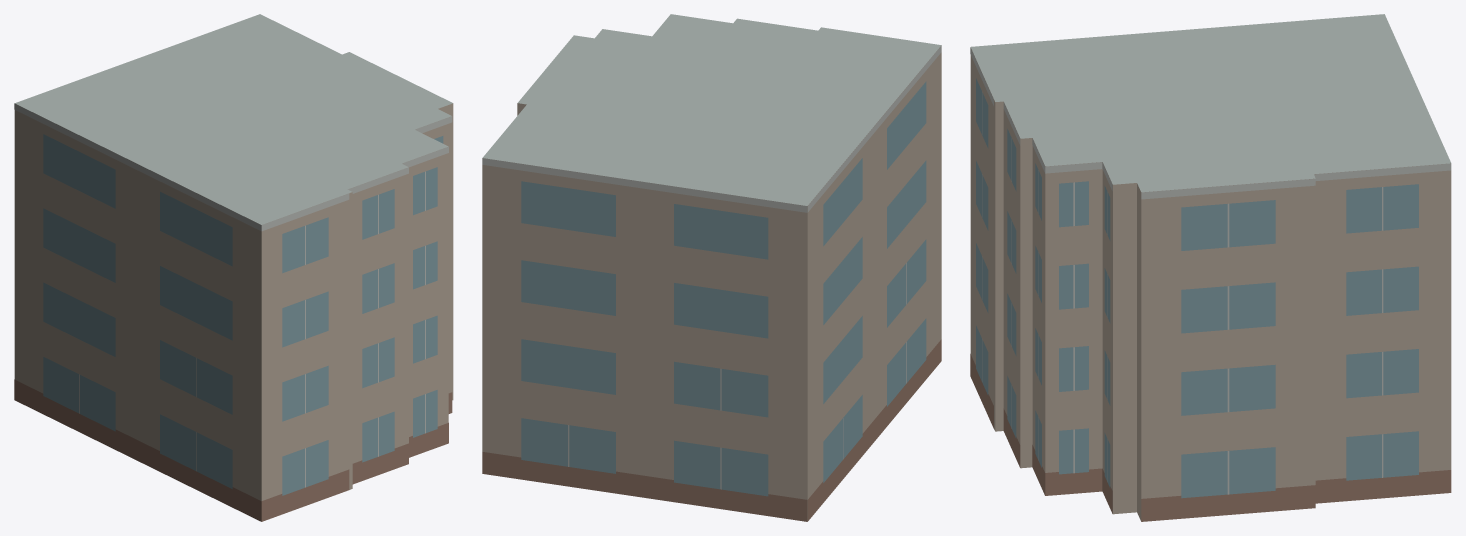
The model's file is survey-upis-32959071.glb.
3 renders of one model, left to right at view 1: azimuth 30°, elevation 25°; view 2: azimuth 150°, elevation 25°; view 3: azimuth 270°, elevation 25°, orthographic. The views are drawn at different scales.
Visible parts, largest first — view 1: survey-upis-32959071.tmp; view 2: survey-upis-32959071.tmp; view 3: survey-upis-32959071.tmp.
Boxes of the visible parts, left/top/right/bottom form: survey-upis-32959071.tmp: left=14, top=14, right=453, bottom=521; survey-upis-32959071.tmp: left=482, top=14, right=941, bottom=521; survey-upis-32959071.tmp: left=970, top=14, right=1451, bottom=521.
Size of the model in its own units: 13.13 by 11.3 by 14.96.
